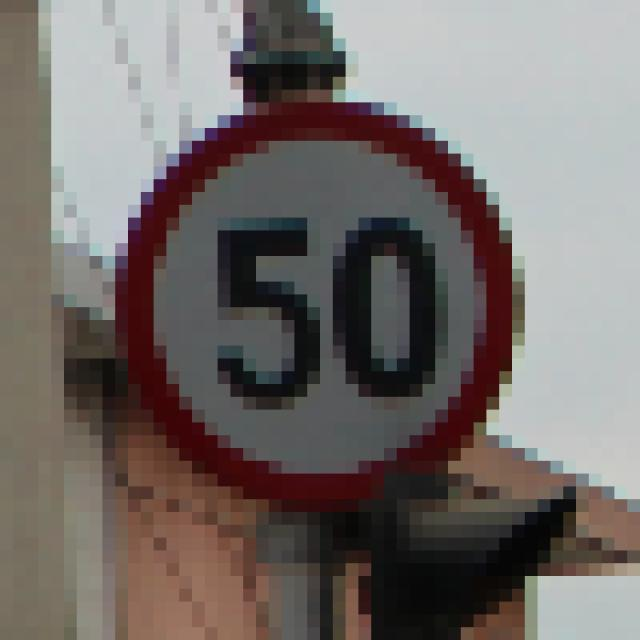Limite-50: (108, 93, 528, 516)
